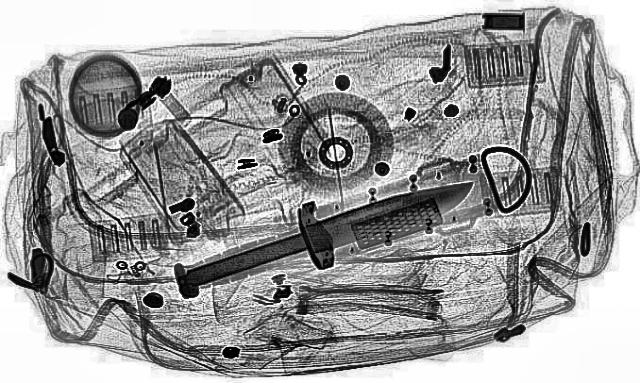Knife: (134, 150, 504, 316)
